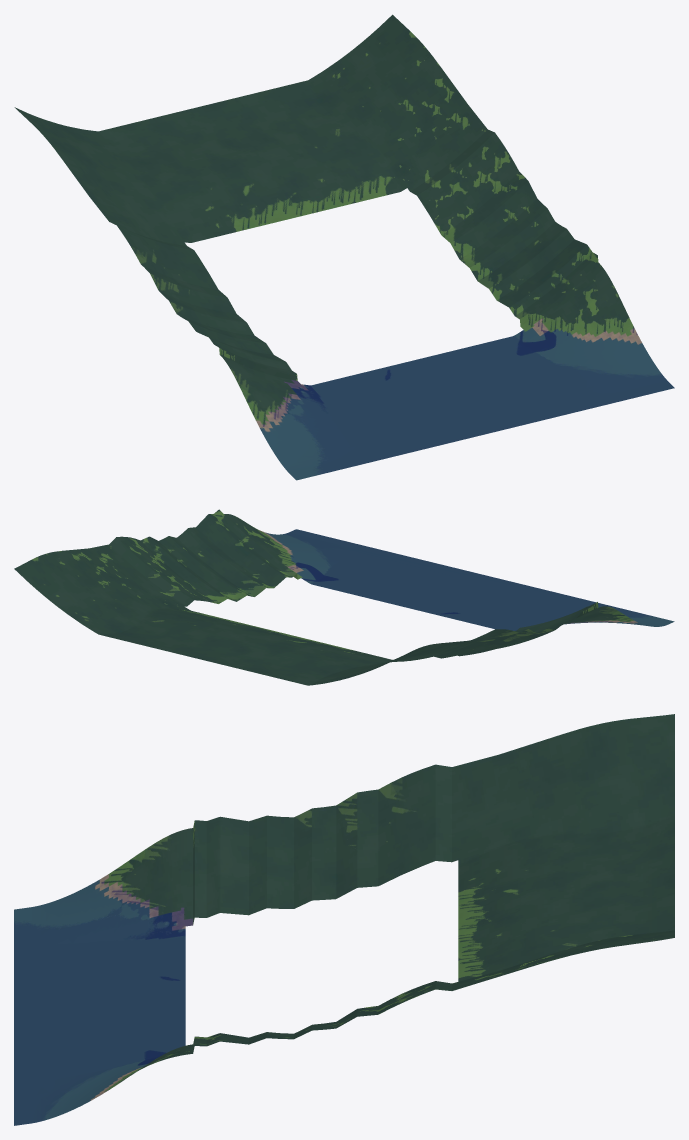
The model's file is terrain_far.glb.
3 views of the same model, one above another, from view 1: azimuth 30°, elevation 25°; view 2: azimuth 150°, elevation 25°; view 3: azimuth 270°, elevation 25° (orthographic). The views are drawn at different scales.
Visible parts, largest first — view 1: piece_terrain_far; view 2: piece_terrain_far; view 3: piece_terrain_far.
Part boxes in pixels (bbox=[...]): piece_terrain_far: bbox=[14, 14, 674, 480]; piece_terrain_far: bbox=[14, 509, 674, 685]; piece_terrain_far: bbox=[14, 714, 674, 1125].
Bounding box in the file's own units: 340 × 143 × 439.
1 material, 1 textured.
